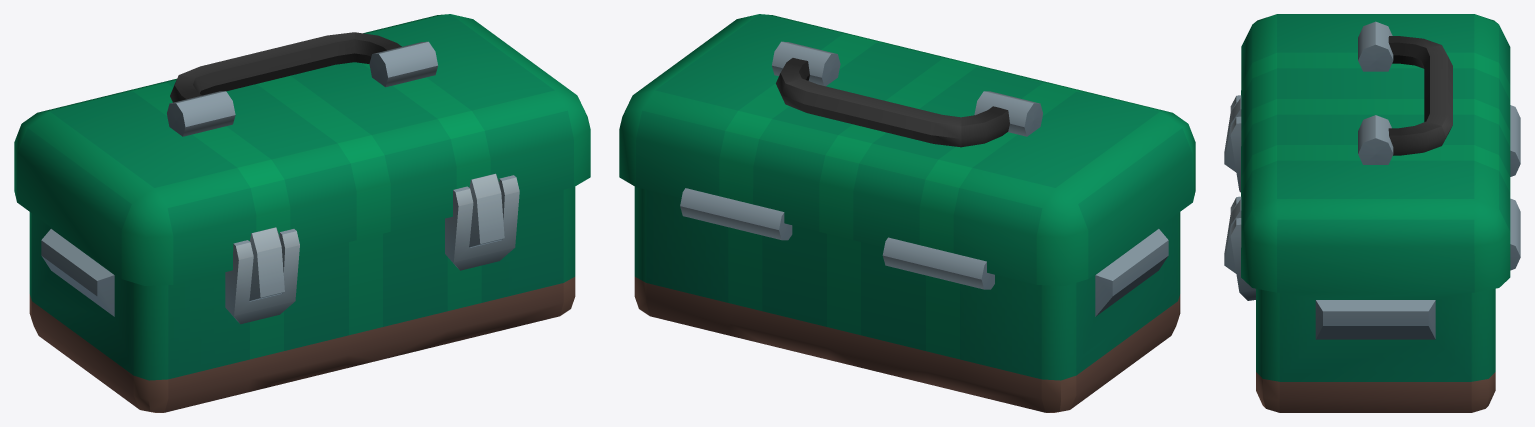
Rendered from fishing_tacklebox_empty.fbx.
The picture shows the model from 3 angles, left to right: view 1: azimuth 30°, elevation 25°; view 2: azimuth 150°, elevation 25°; view 3: azimuth 270°, elevation 25°; orthographic projection. The views are drawn at different scales.
Visible parts, largest first — view 1: fishing_tacklebox_empty_lid, fishing_tacklebox_empty; view 2: fishing_tacklebox_empty_lid, fishing_tacklebox_empty; view 3: fishing_tacklebox_empty_lid, fishing_tacklebox_empty.
Part boxes in pixels (bbox=[...]): fishing_tacklebox_empty_lid: bbox=[14, 14, 590, 300]; fishing_tacklebox_empty: bbox=[29, 175, 575, 412]; fishing_tacklebox_empty_lid: bbox=[619, 14, 1195, 289]; fishing_tacklebox_empty: bbox=[634, 187, 1180, 412]; fishing_tacklebox_empty_lid: bbox=[1224, 14, 1520, 292]; fishing_tacklebox_empty: bbox=[1230, 95, 1495, 412].
Size of the model in its own units: 95.95 by 50.12 by 55.85.
